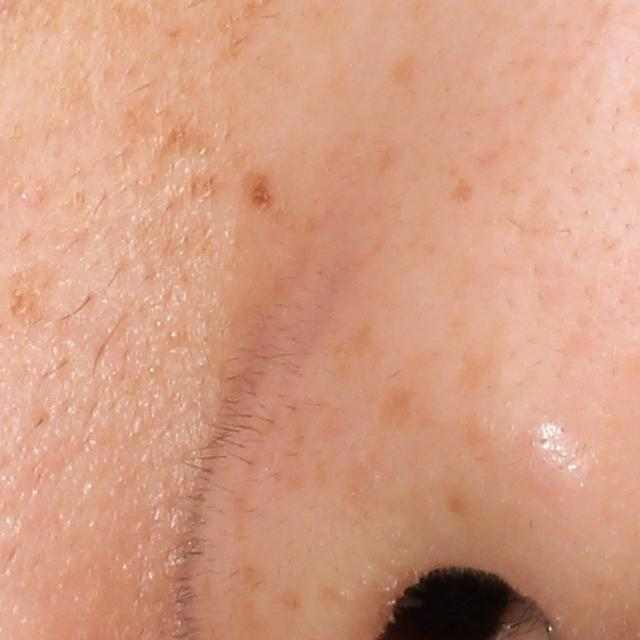melasma: (7, 259, 62, 333), (240, 167, 277, 216), (386, 46, 420, 94), (379, 142, 406, 173), (447, 177, 474, 205)
